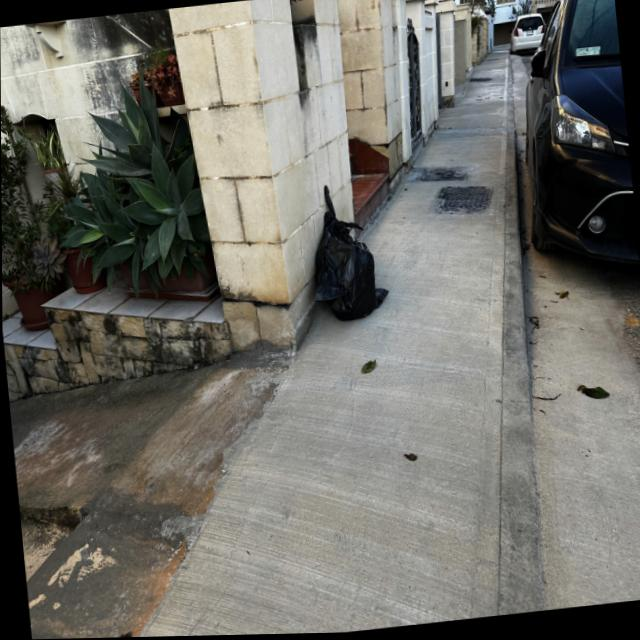Mixed Waste -Black Bags-: (314, 186, 388, 322)
